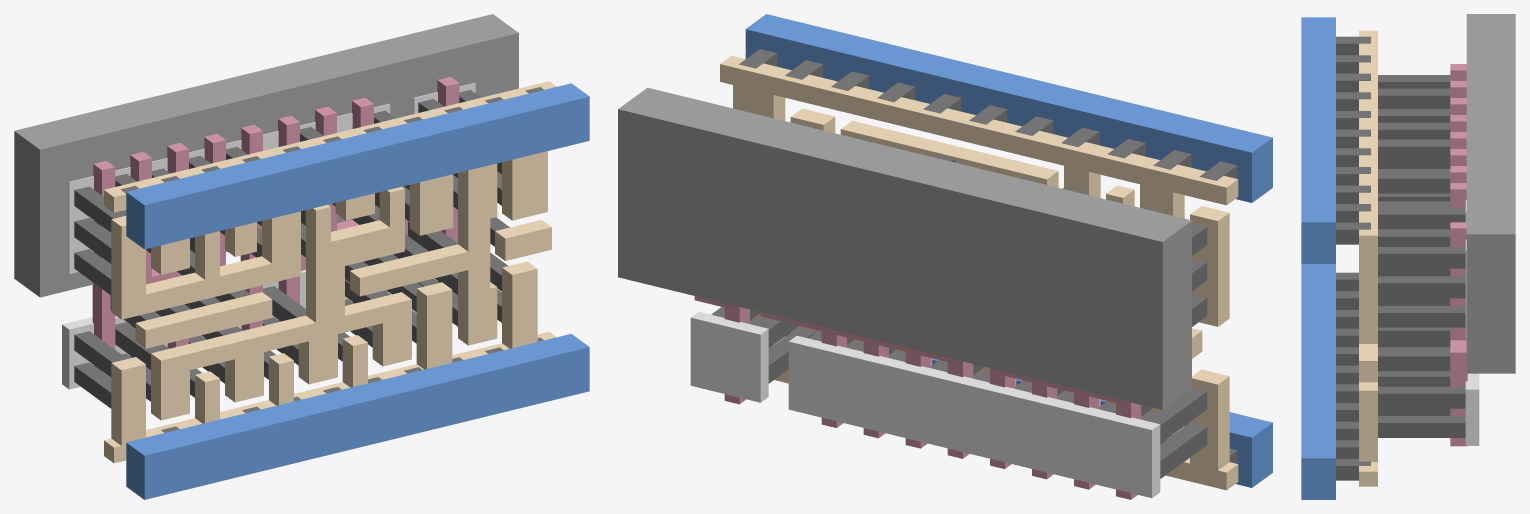
File: sky130_fd_sc_hd__nor2b_4.gds.gltf
The picture shows the model from 3 angles, left to right: view 1: azimuth 30°, elevation 25°; view 2: azimuth 150°, elevation 25°; view 3: azimuth 270°, elevation 25°; orthographic projection. The views are drawn at different scales.
Parts seen in each view (by area): view 1: sky130_fd_sc_hd__nor2b_4_li1, sky130_fd_sc_hd__nor2b_4_met1, sky130_fd_sc_hd__nor2b_4_nwell, sky130_fd_sc_hd__nor2b_4_licon, sky130_fd_sc_hd__nor2b_4_poly, sky130_fd_sc_hd__nor2b_4_diff, sky130_fd_sc_hd__nor2b_4_mcon; view 2: sky130_fd_sc_hd__nor2b_4_nwell, sky130_fd_sc_hd__nor2b_4_diff, sky130_fd_sc_hd__nor2b_4_li1, sky130_fd_sc_hd__nor2b_4_met1, sky130_fd_sc_hd__nor2b_4_licon, sky130_fd_sc_hd__nor2b_4_poly, sky130_fd_sc_hd__nor2b_4_mcon; view 3: sky130_fd_sc_hd__nor2b_4_licon, sky130_fd_sc_hd__nor2b_4_nwell, sky130_fd_sc_hd__nor2b_4_met1, sky130_fd_sc_hd__nor2b_4_mcon, sky130_fd_sc_hd__nor2b_4_li1, sky130_fd_sc_hd__nor2b_4_poly, sky130_fd_sc_hd__nor2b_4_diff.
Boxes of the visible parts, x1,y1,x2,y2 form: sky130_fd_sc_hd__nor2b_4_li1: (104,81,556,463); sky130_fd_sc_hd__nor2b_4_met1: (126,83,589,499); sky130_fd_sc_hd__nor2b_4_nwell: (14,14,518,297); sky130_fd_sc_hd__nor2b_4_licon: (74,90,509,408); sky130_fd_sc_hd__nor2b_4_poly: (92,77,459,377); sky130_fd_sc_hd__nor2b_4_diff: (62,83,475,389); sky130_fd_sc_hd__nor2b_4_mcon: (120,87,543,432); sky130_fd_sc_hd__nor2b_4_nwell: (618,87,1191,409); sky130_fd_sc_hd__nor2b_4_diff: (690,311,1160,497); sky130_fd_sc_hd__nor2b_4_li1: (720,55,1238,490); sky130_fd_sc_hd__nor2b_4_met1: (745,14,1272,487); sky130_fd_sc_hd__nor2b_4_licon: (711,112,1207,478); sky130_fd_sc_hd__nor2b_4_poly: (694,296,1141,499); sky130_fd_sc_hd__nor2b_4_mcon: (739,49,1237,463); sky130_fd_sc_hd__nor2b_4_licon: (1378,75,1465,437); sky130_fd_sc_hd__nor2b_4_nwell: (1466,14,1515,373); sky130_fd_sc_hd__nor2b_4_met1: (1301,17,1335,499); sky130_fd_sc_hd__nor2b_4_mcon: (1336,36,1370,480); sky130_fd_sc_hd__nor2b_4_li1: (1359,30,1377,486); sky130_fd_sc_hd__nor2b_4_poly: (1450,64,1467,446); sky130_fd_sc_hd__nor2b_4_diff: (1465,200,1479,445).
Size of the model in its own units: 5.44 by 3.2 by 2.24.
